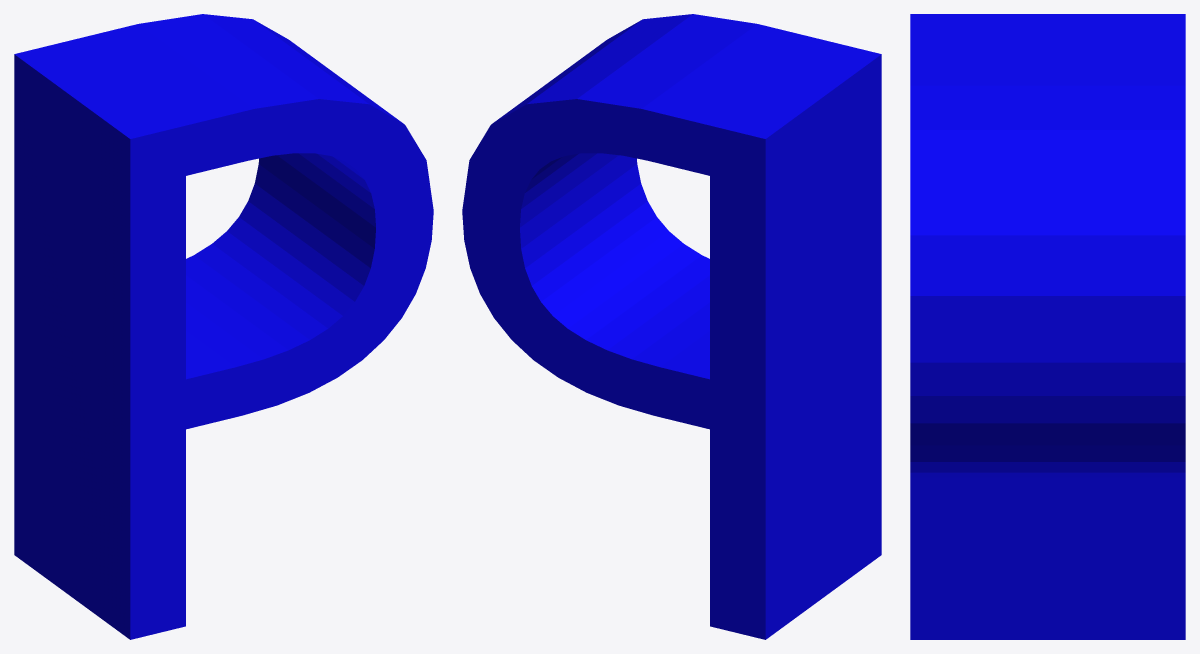
Rendered from Paragem.obj.
3 renders of one model, left to right at view 1: azimuth 30°, elevation 25°; view 2: azimuth 150°, elevation 25°; view 3: azimuth 270°, elevation 25°, orthographic. The views are drawn at different scales.
Parts seen in each view (by area): view 1: 000_P_-_P; view 2: 000_P_-_P; view 3: 000_P_-_P.
Boxes of the visible parts, box(x1,y1,x2,y2) form: 000_P_-_P: box(14, 14, 433, 639); 000_P_-_P: box(462, 14, 881, 639); 000_P_-_P: box(910, 14, 1185, 639).
Size of the model in its own units: 22.63 by 35.69 by 15.
